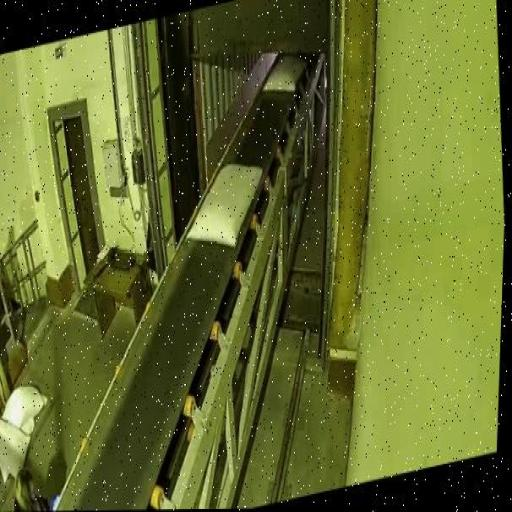c-belt-sack-count: (188, 166, 261, 247), (264, 57, 305, 92)
